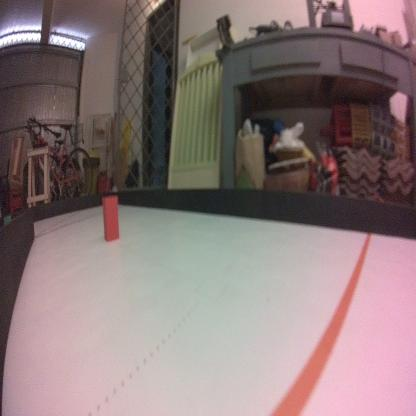red: (100, 192, 119, 242)
